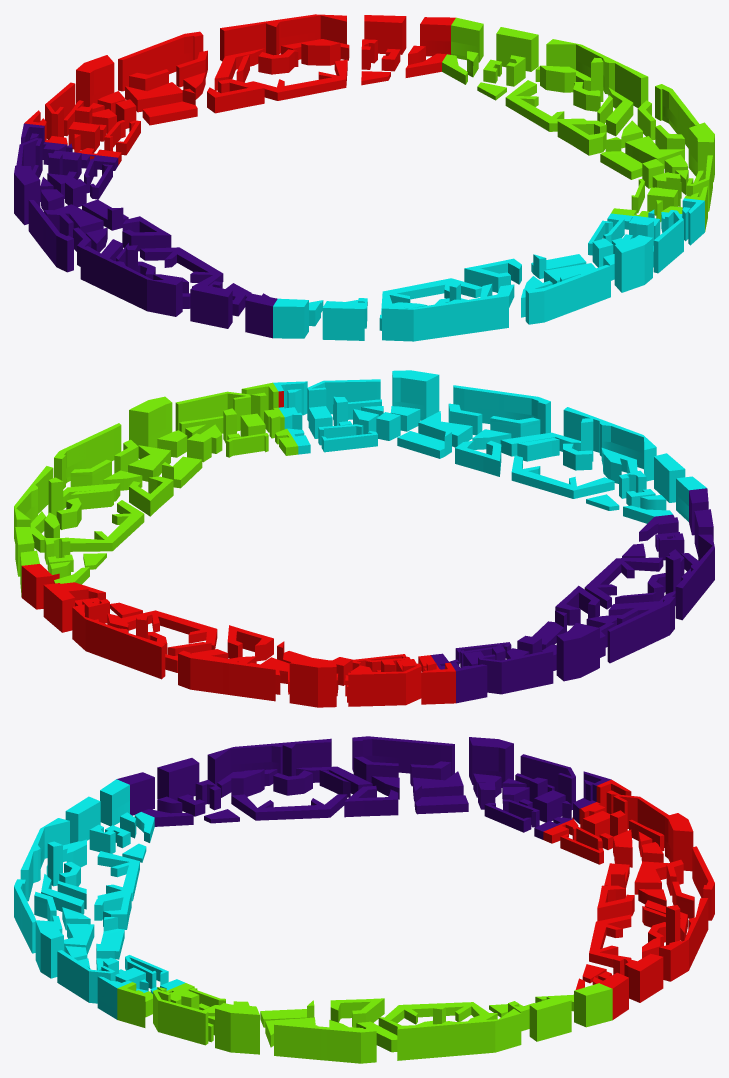
File: Top_Floor_Detached.fbx
The picture shows the model from 3 angles, top to bottom: view 1: azimuth 30°, elevation 25°; view 2: azimuth 150°, elevation 25°; view 3: azimuth 270°, elevation 25°; orthographic projection.
Visible parts, largest first — view 1: Object116, Object040, Object184, Object120, Object256, Object042, Object190, Object186, Object110, Object046, Object118, Object044 (+43 smaller); view 2: Object190, Object184, Object164, Object120, Object116, Object046, Object020, Object012, Object178, Object260, Object034, Object110 (+48 smaller); view 3: Object256, Object260, Object040, Object046, Object186, Object042, Object250, Object236, Object088, Object184, Object068, Object034 (+47 smaller).
Boxes of the visible parts, x1,y1,x2,y2 form: Object116: (382, 293, 508, 341); Object040: (80, 246, 182, 316); Object184: (220, 14, 346, 61); Object120: (525, 265, 610, 324); Object256: (546, 39, 648, 107); Object042: (245, 293, 308, 338); Object190: (118, 31, 203, 91); Object186: (420, 17, 483, 62); Object110: (614, 235, 652, 292); Object046: (28, 200, 73, 272); Object118: (322, 301, 364, 340); Object044: (190, 284, 232, 328); Object190: (178, 650, 275, 701); Object184: (72, 604, 165, 679); Object164: (348, 663, 421, 706); Object120: (453, 385, 550, 434); Object116: (563, 407, 656, 481); Object046: (607, 596, 674, 663); Object020: (478, 649, 553, 694); Object012: (421, 662, 487, 704); Object178: (289, 656, 336, 707); Object260: (54, 423, 121, 488); Object034: (556, 625, 599, 681); Object110: (392, 370, 439, 420); Object256: (397, 1009, 521, 1060); Object260: (274, 1023, 376, 1063); Object040: (207, 738, 331, 785); Object046: (352, 736, 454, 775); Object186: (574, 972, 628, 1027); Object042: (100, 772, 154, 826); Object250: (215, 1003, 259, 1054); Object236: (153, 989, 208, 1045); Object088: (97, 976, 152, 1027); Object184: (659, 898, 708, 981); Object068: (231, 794, 347, 820); Object034: (469, 737, 513, 787).
Size of the model in its own units: 479 by 29.85 by 479.
